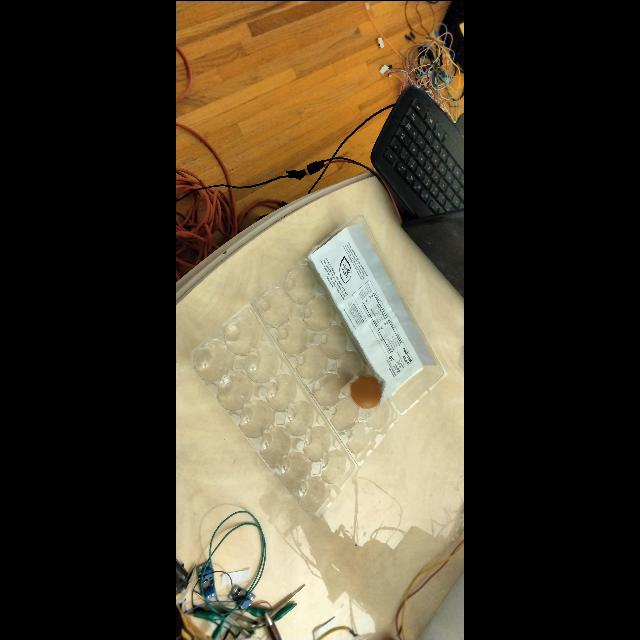Egg: (344, 366, 392, 412)
